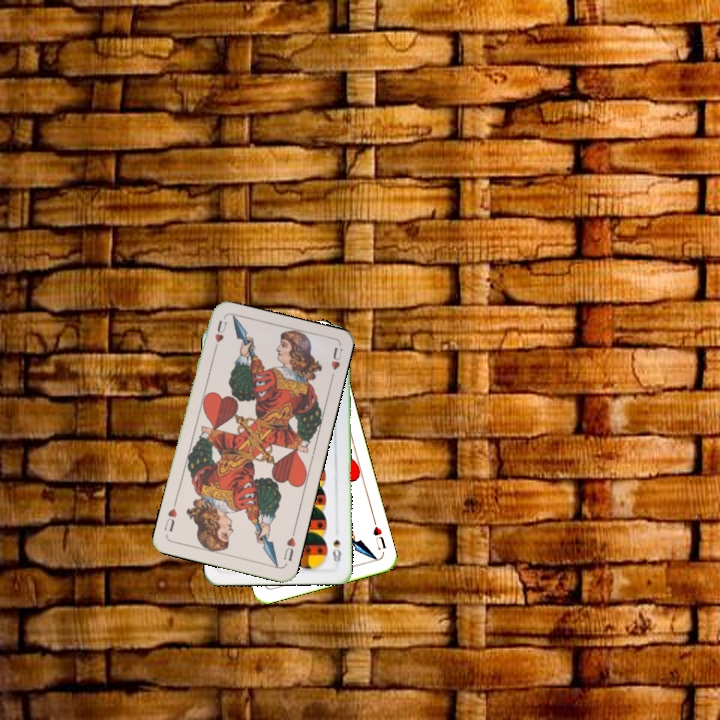HU: (209, 316, 230, 355), (369, 522, 389, 552), (279, 533, 298, 564)
S8: (328, 536, 343, 566)
